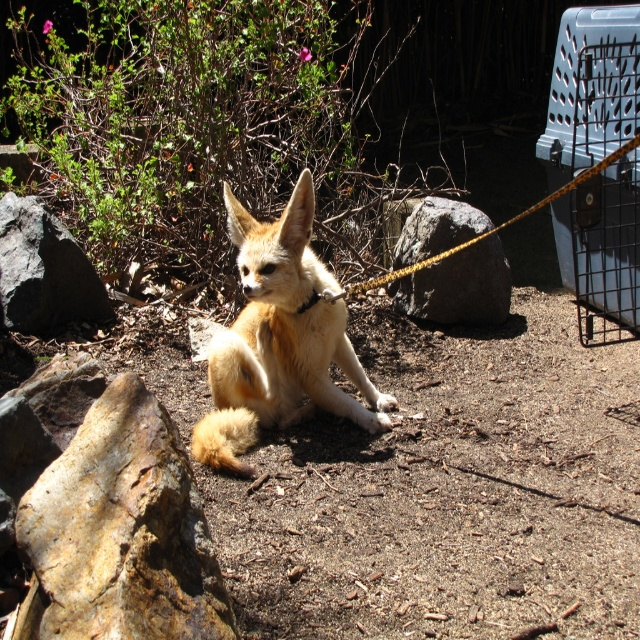Fox: (190, 164, 398, 478)
